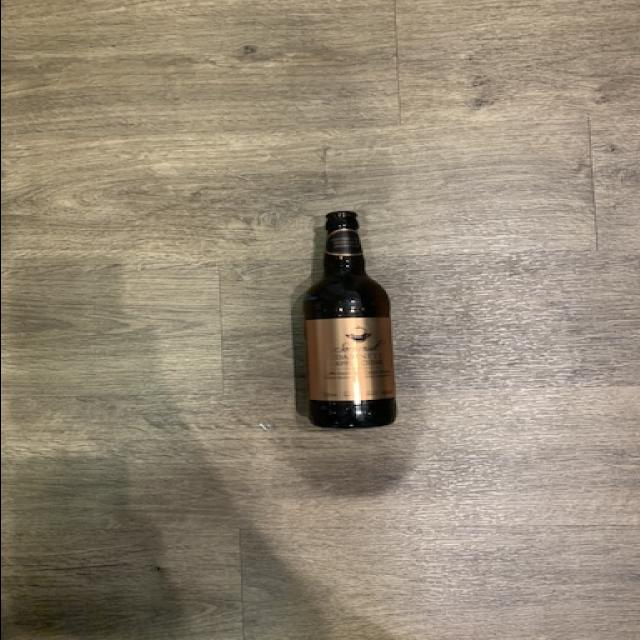Glass Bottle: (298, 212, 396, 426)
